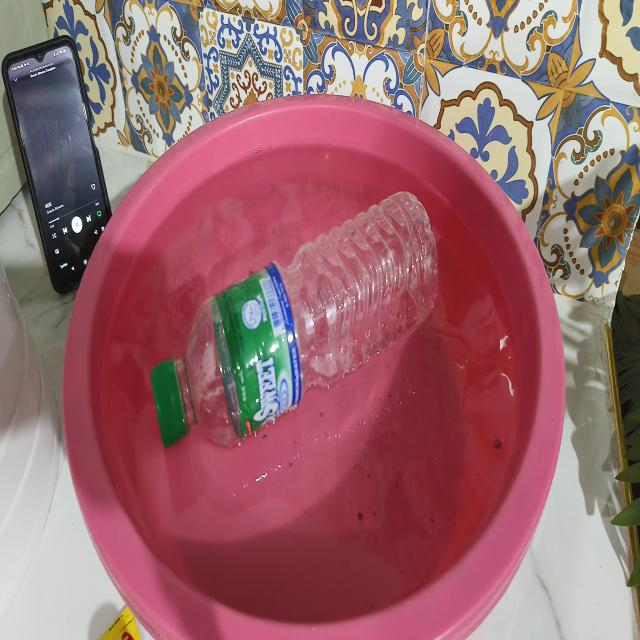Plastic Bottle: (140, 161, 458, 467)
